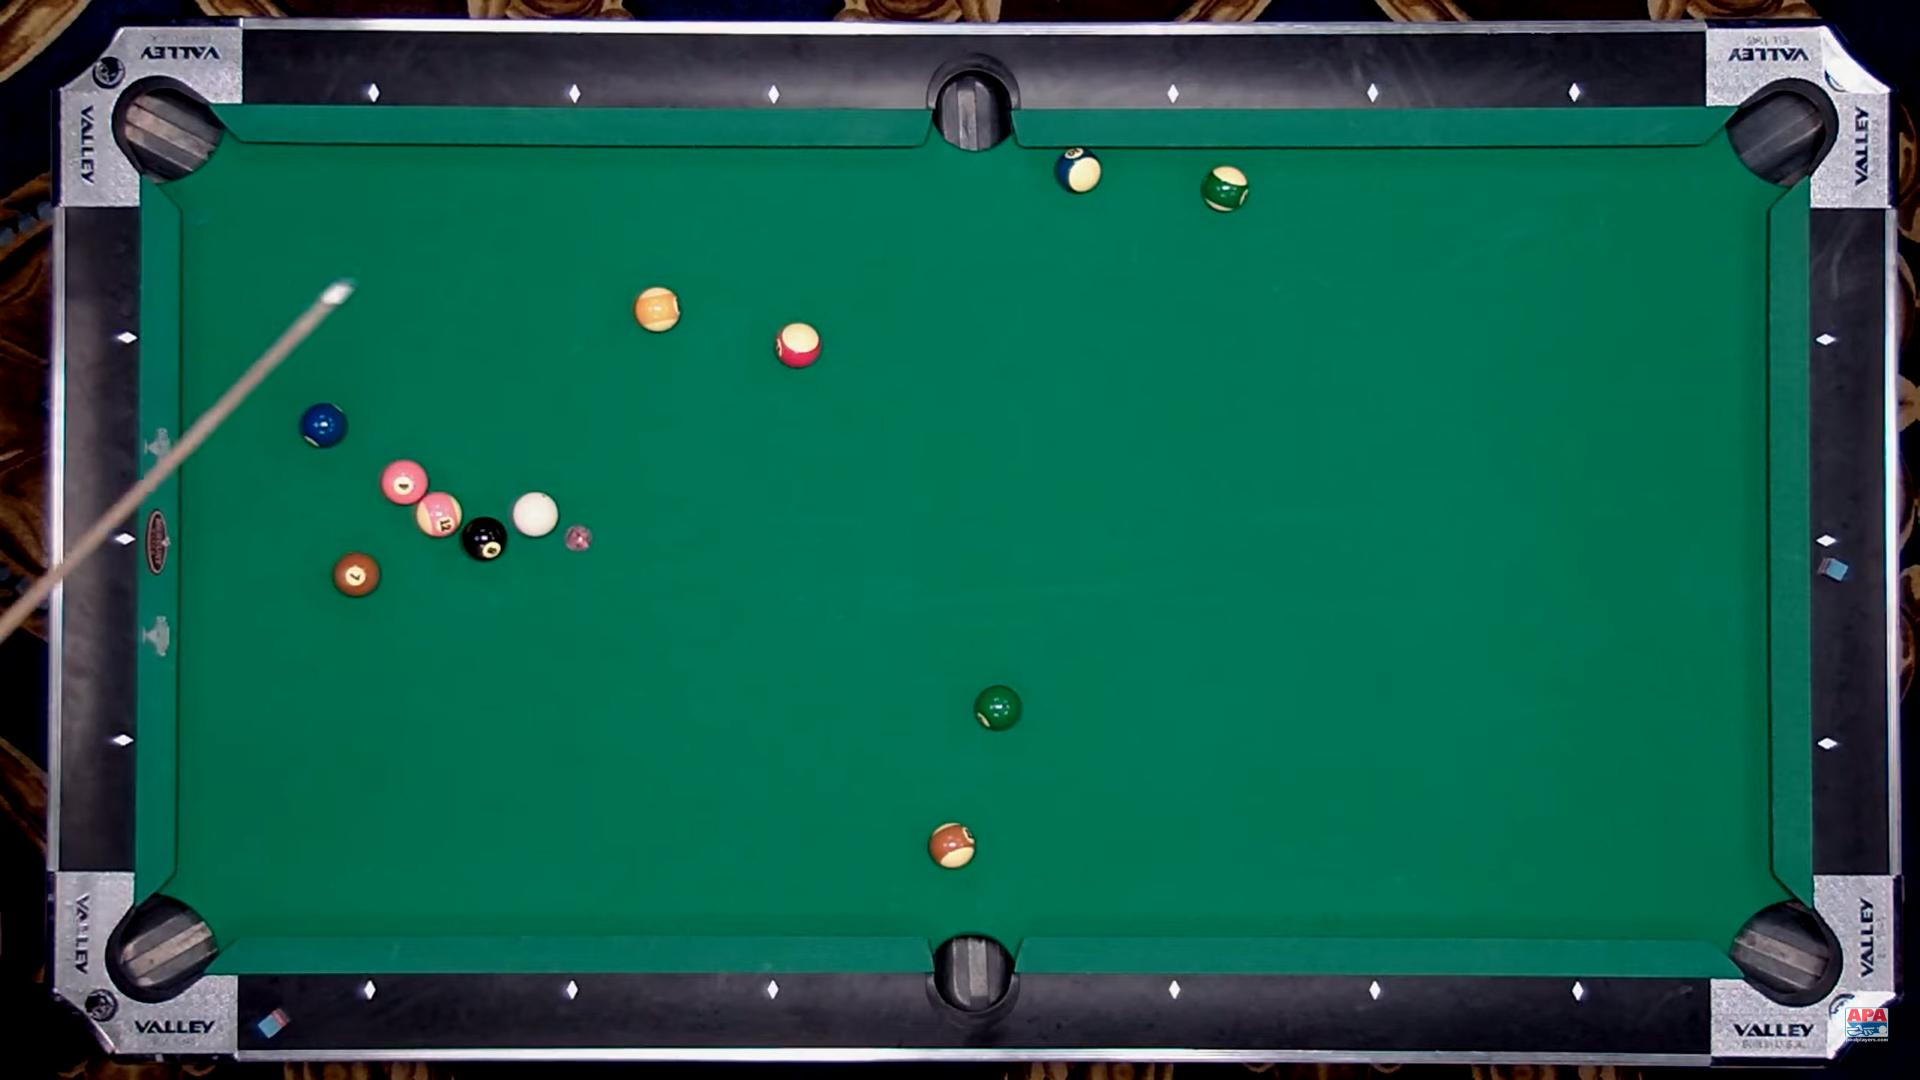Black: (463, 518, 508, 562)
Cue: (512, 493, 560, 538)
Dot: (766, 88, 781, 102), (1369, 982, 1383, 997), (1165, 982, 1179, 997), (766, 982, 780, 997), (566, 980, 580, 995), (362, 981, 376, 996), (113, 735, 127, 749), (116, 532, 130, 546), (120, 330, 134, 344), (569, 86, 583, 100), (1168, 86, 1182, 100), (1366, 88, 1380, 102), (1568, 86, 1582, 100), (1818, 335, 1832, 349), (1818, 532, 1832, 546), (1820, 736, 1834, 750), (1572, 984, 1586, 998), (367, 88, 381, 101)
Solid: (301, 402, 349, 450), (974, 685, 1024, 731), (333, 552, 382, 596), (381, 459, 428, 504)
Striped: (1202, 164, 1250, 213), (1054, 148, 1102, 195), (774, 322, 822, 368), (928, 822, 975, 868), (635, 286, 680, 333), (416, 493, 463, 538)
